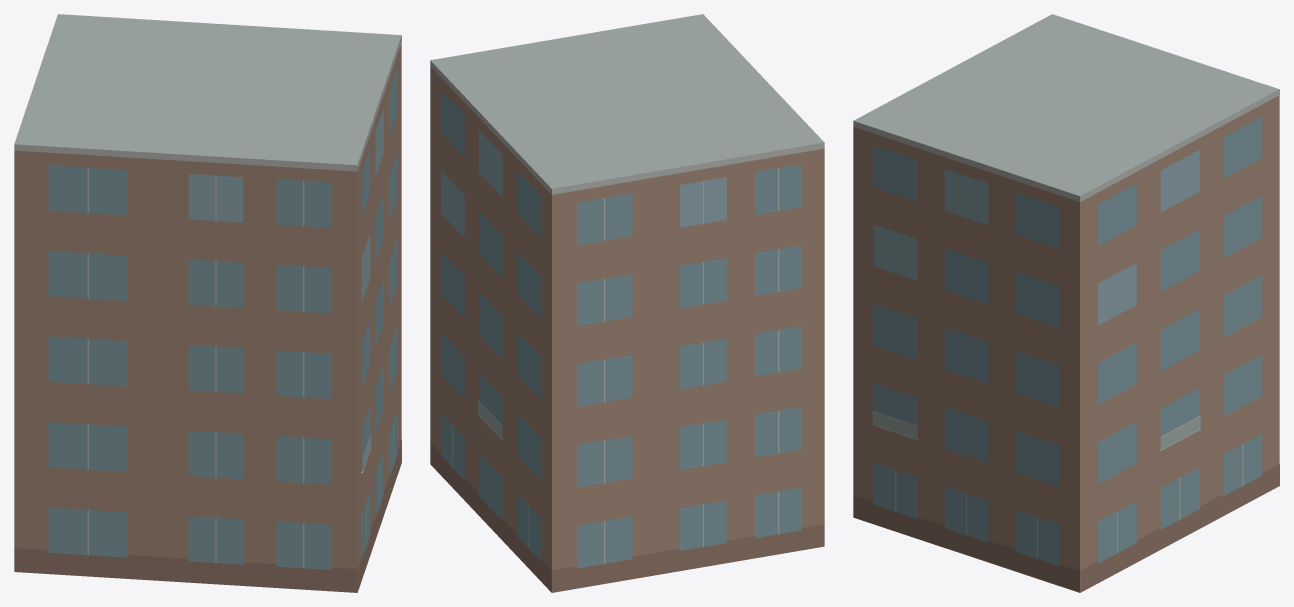
File: survey-upis-32890911.glb
3 renders of one model, left to right at view 1: azimuth 30°, elevation 25°; view 2: azimuth 150°, elevation 25°; view 3: azimuth 270°, elevation 25°, orthographic. The views are drawn at different scales.
Parts seen in each view (by area): view 1: survey-upis-32890911.tmp; view 2: survey-upis-32890911.tmp; view 3: survey-upis-32890911.tmp.
Boxes of the visible parts, x1,y1,x2,y2 form: survey-upis-32890911.tmp: (14,14,401,592); survey-upis-32890911.tmp: (430,14,824,592); survey-upis-32890911.tmp: (853,14,1279,592).
Bounding box in the file's own units: 16.46 × 16.7 × 16.28.
